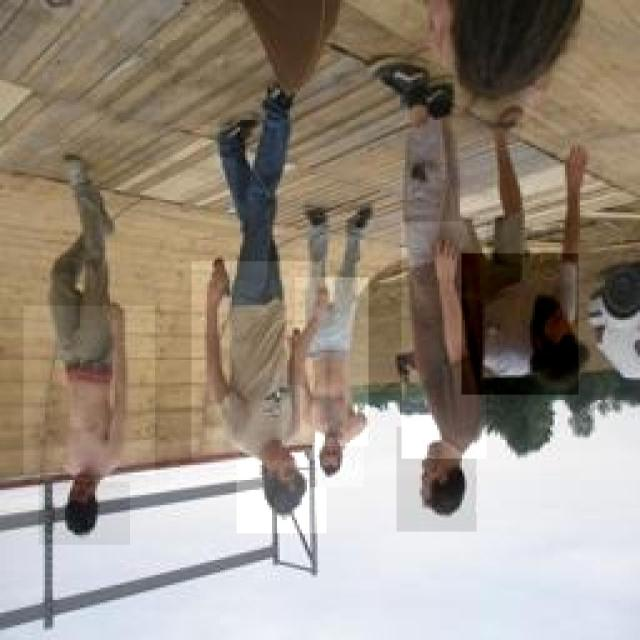Helmet: (192, 262, 322, 460), (23, 306, 155, 474), (402, 221, 487, 459), (462, 253, 578, 395), (295, 278, 369, 447), (237, 431, 327, 534), (524, 280, 594, 405), (397, 426, 477, 532), (38, 482, 130, 545), (310, 425, 364, 487)
